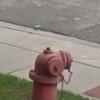Hydrant: (25, 42, 81, 100)
